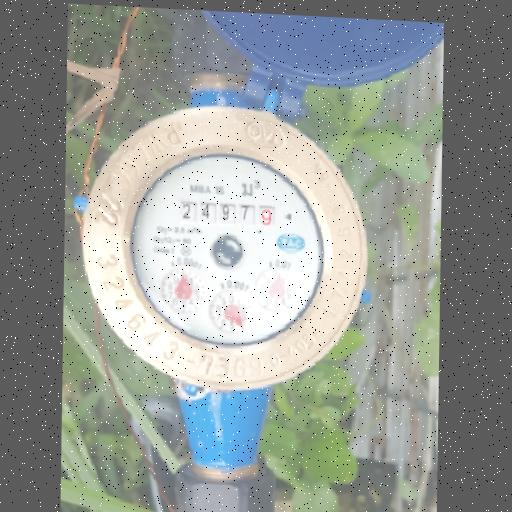2: (182, 200, 196, 222)
4: (201, 202, 215, 222)
7: (241, 205, 255, 225)
9: (221, 202, 235, 224), (260, 207, 274, 227)
border_water_meter_number: (176, 195, 280, 233)
